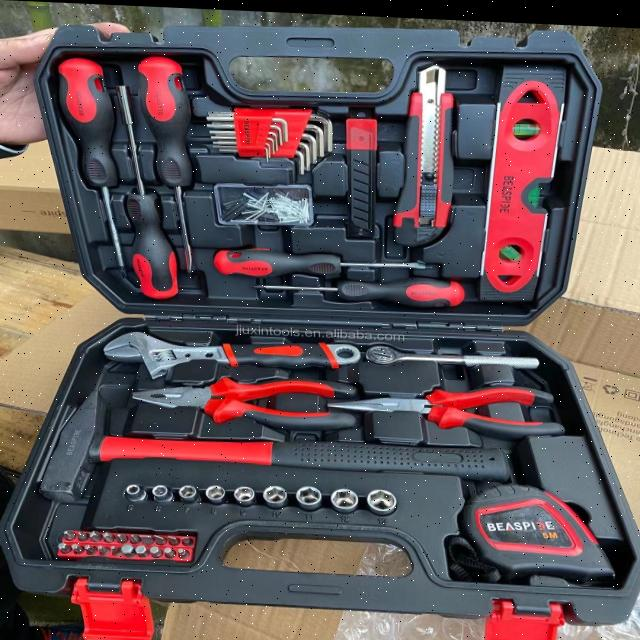Screwdriver: (58, 58, 125, 275), (120, 86, 178, 297), (138, 55, 192, 270), (213, 246, 427, 274), (253, 275, 465, 303)
